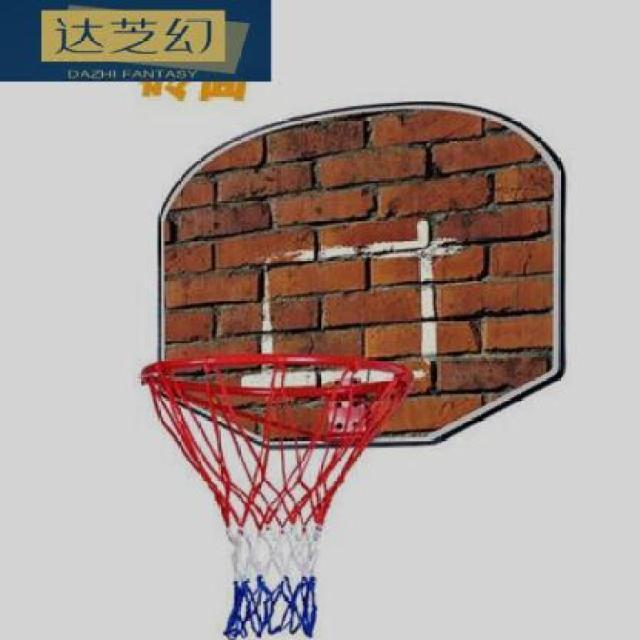rim: (138, 354, 406, 640)
